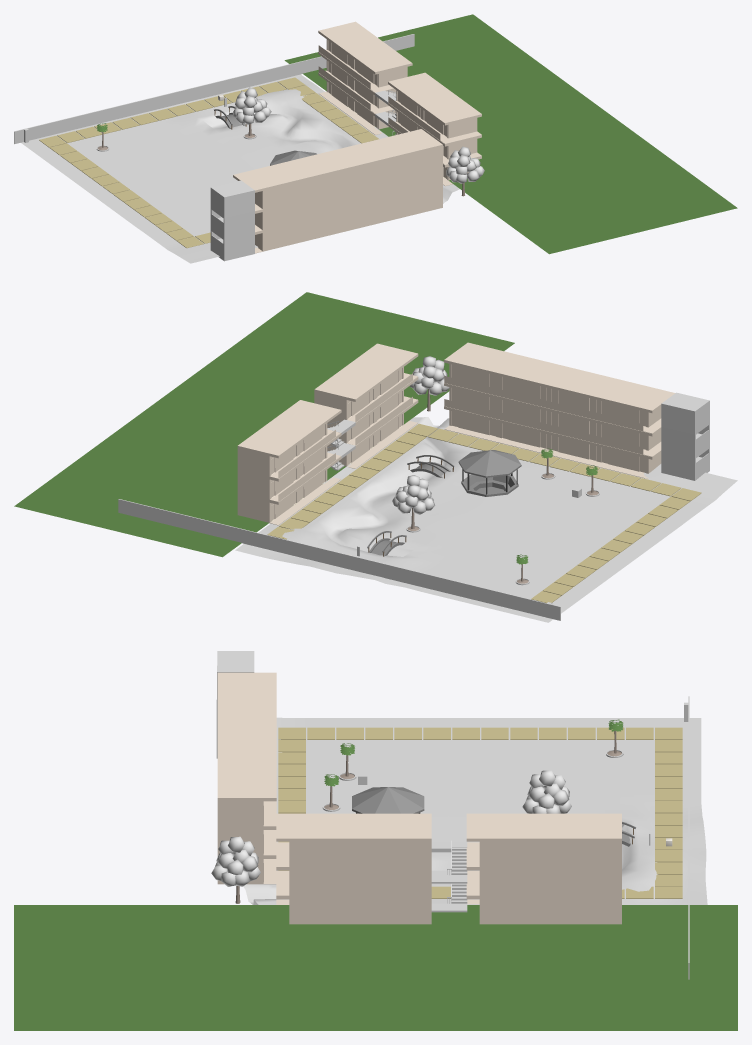
File: School.FBX
The picture shows the model from 3 angles, top to bottom: view 1: azimuth 30°, elevation 25°; view 2: azimuth 150°, elevation 25°; view 3: azimuth 270°, elevation 25°; orthographic projection. The views are drawn at different scales.
Visible parts, largest first — view 1: Plane002, Ground2, Box034, SchoolFlat002, SchoolFlat005, Box033, SchoolFlat008, SchoolFlat011, SchoolFlat001, SchoolFlat, SchoolFlat003, SchoolFlat004 (+7 smaller); view 2: Plane002, Ground2, Box034, Box033, SchoolFlat011, SchoolFlat008, SchoolFlat002, SchoolFlat005, Pagoda, SchoolFlat009, Wall003, Wall (+20 smaller); view 3: Plane002, Ground2, SchoolFlat008, SchoolFlat011, SchoolFlat005, SchoolFlat007, SchoolFlat010, SchoolFlat006, SchoolFlat009, SchoolFlat002, Pagoda, SchoolFlat004 (+4 smaller).
Part boxes in pixels (x1,y1,x2,y2): Plane002: (284, 14, 737, 254); Ground2: (21, 74, 459, 263); Box034: (14, 34, 414, 144); SchoolFlat002: (233, 151, 352, 211); SchoolFlat005: (324, 129, 442, 187); Box033: (210, 180, 254, 261); SchoolFlat008: (388, 72, 481, 143); SchoolFlat011: (318, 21, 412, 92); SchoolFlat001: (255, 188, 352, 232); SchoolFlat: (255, 209, 352, 253); SchoolFlat003: (344, 187, 442, 231); SchoolFlat004: (345, 165, 442, 209); Plane002: (14, 292, 514, 557); Ground2: (235, 417, 737, 622); Box034: (118, 499, 560, 620); Box033: (661, 392, 709, 480); SchoolFlat011: (237, 400, 341, 478); SchoolFlat008: (314, 343, 418, 421); SchoolFlat002: (543, 367, 675, 433); SchoolFlat005: (444, 342, 572, 409); Pagoda: (458, 450, 521, 496); SchoolFlat009: (237, 456, 341, 525); Wall003: (449, 410, 548, 449); Wall: (549, 434, 648, 473); Plane002: (14, 905, 737, 1030); Ground2: (243, 717, 707, 904); SchoolFlat008: (276, 813, 431, 867); SchoolFlat011: (466, 813, 621, 867); SchoolFlat005: (217, 735, 276, 826); SchoolFlat007: (276, 867, 431, 895); SchoolFlat010: (466, 867, 621, 895); SchoolFlat006: (276, 896, 431, 924); SchoolFlat009: (466, 896, 621, 924); SchoolFlat002: (217, 672, 276, 737); Pagoda: (352, 787, 424, 813); SchoolFlat004: (217, 801, 276, 855).
Size of the model in its own units: 3223 by 466 by 3102.
